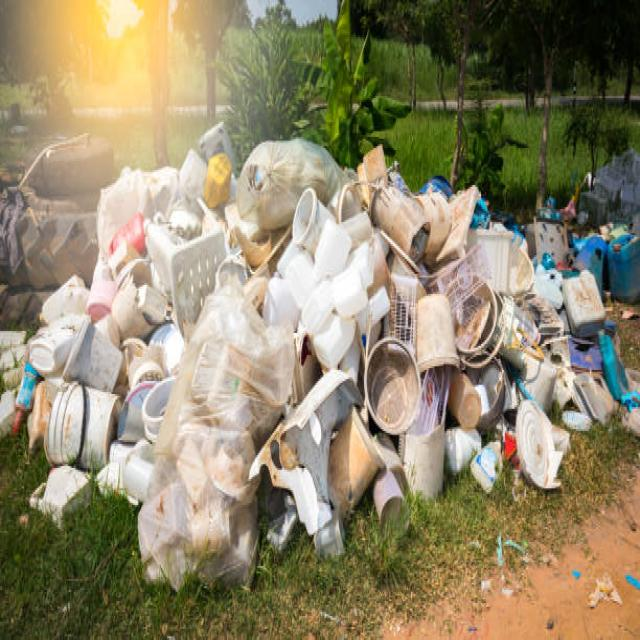plastic: (310, 183, 614, 505), (6, 300, 113, 529)
trash: (134, 268, 297, 596), (234, 135, 292, 235)
